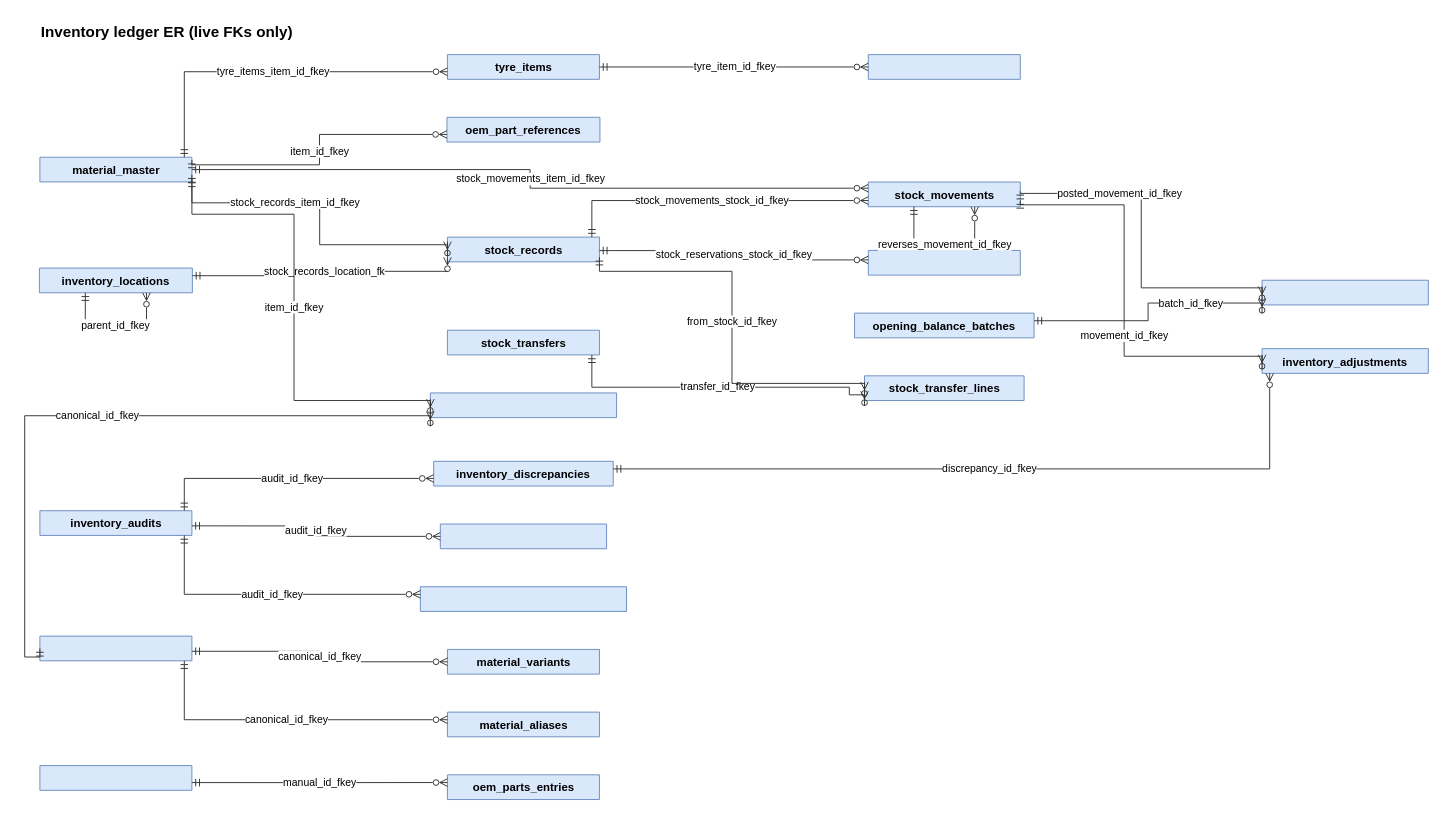
Some shapes in this 1445 by 816 pixel diagram are drawn without their labels. The centre of each missing label's shape, as x and y in pixels:
inventory_count_lines: (x=523, y=536)
material_canonical: (x=115, y=648)
material_canonical_items: (x=523, y=405)
oem_parts_manuals: (x=115, y=777)
opening_balance_lines: (x=1344, y=292)
physical_inventory_sessions: (x=523, y=598)
stock_reservations: (x=943, y=262)
tyre_item_events: (x=943, y=66)
